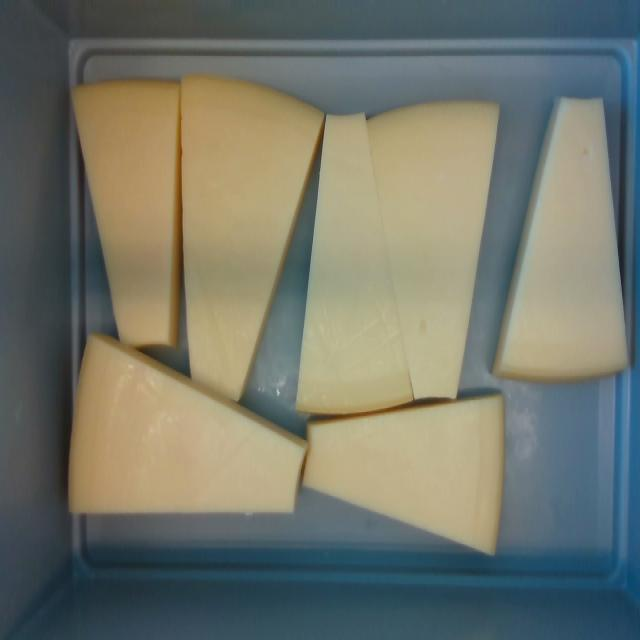Cheese: (181, 77, 322, 404), (69, 340, 308, 512), (365, 100, 500, 401), (496, 96, 629, 374), (294, 115, 411, 412), (303, 391, 506, 552), (72, 78, 180, 346)
